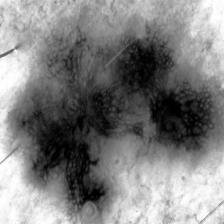Benign Marking or Mole: (19, 37, 221, 209)
